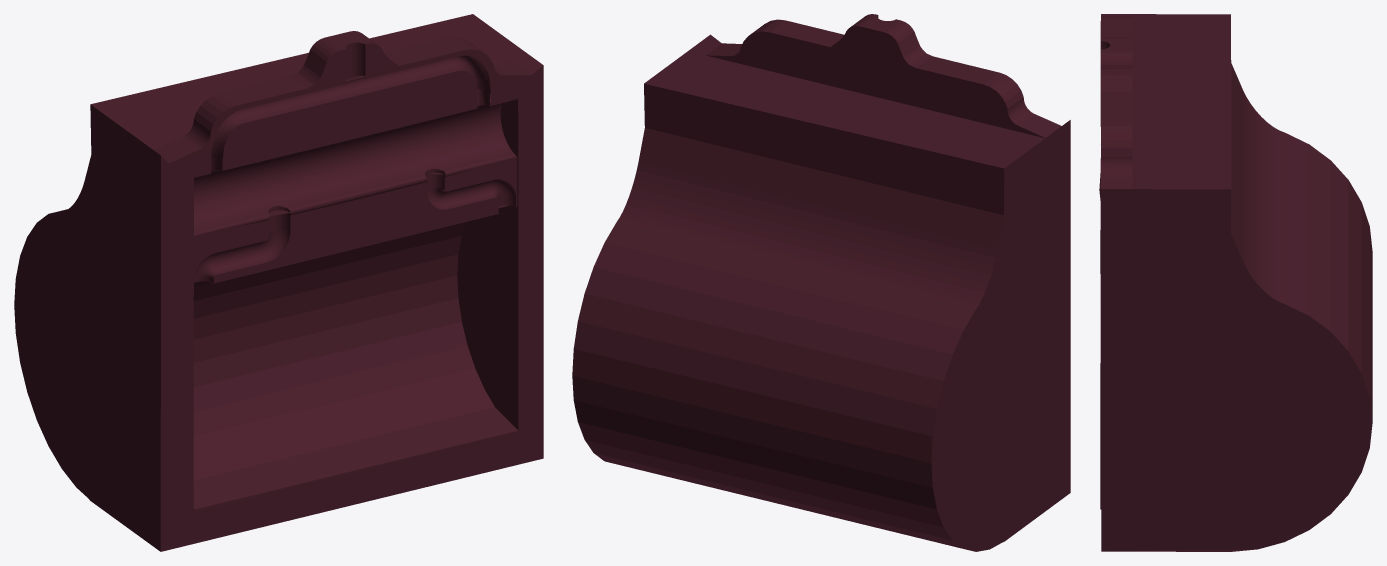
3 renders of one model, left to right at view 1: azimuth 30°, elevation 25°; view 2: azimuth 150°, elevation 25°; view 3: azimuth 270°, elevation 25°, orthographic. The views are drawn at different scales.
Visible parts, largest first — view 1: Cylinder.005; view 2: Cylinder.005; view 3: Cylinder.005.
Part boxes in pixels (x1=…): Cylinder.005: x1=14, y1=14, x2=543, y2=551; Cylinder.005: x1=572, y1=14, x2=1070, y2=551; Cylinder.005: x1=1099, y1=14, x2=1372, y2=551.
Bounding box in the file's own units: 4473 × 5119 × 3000.
